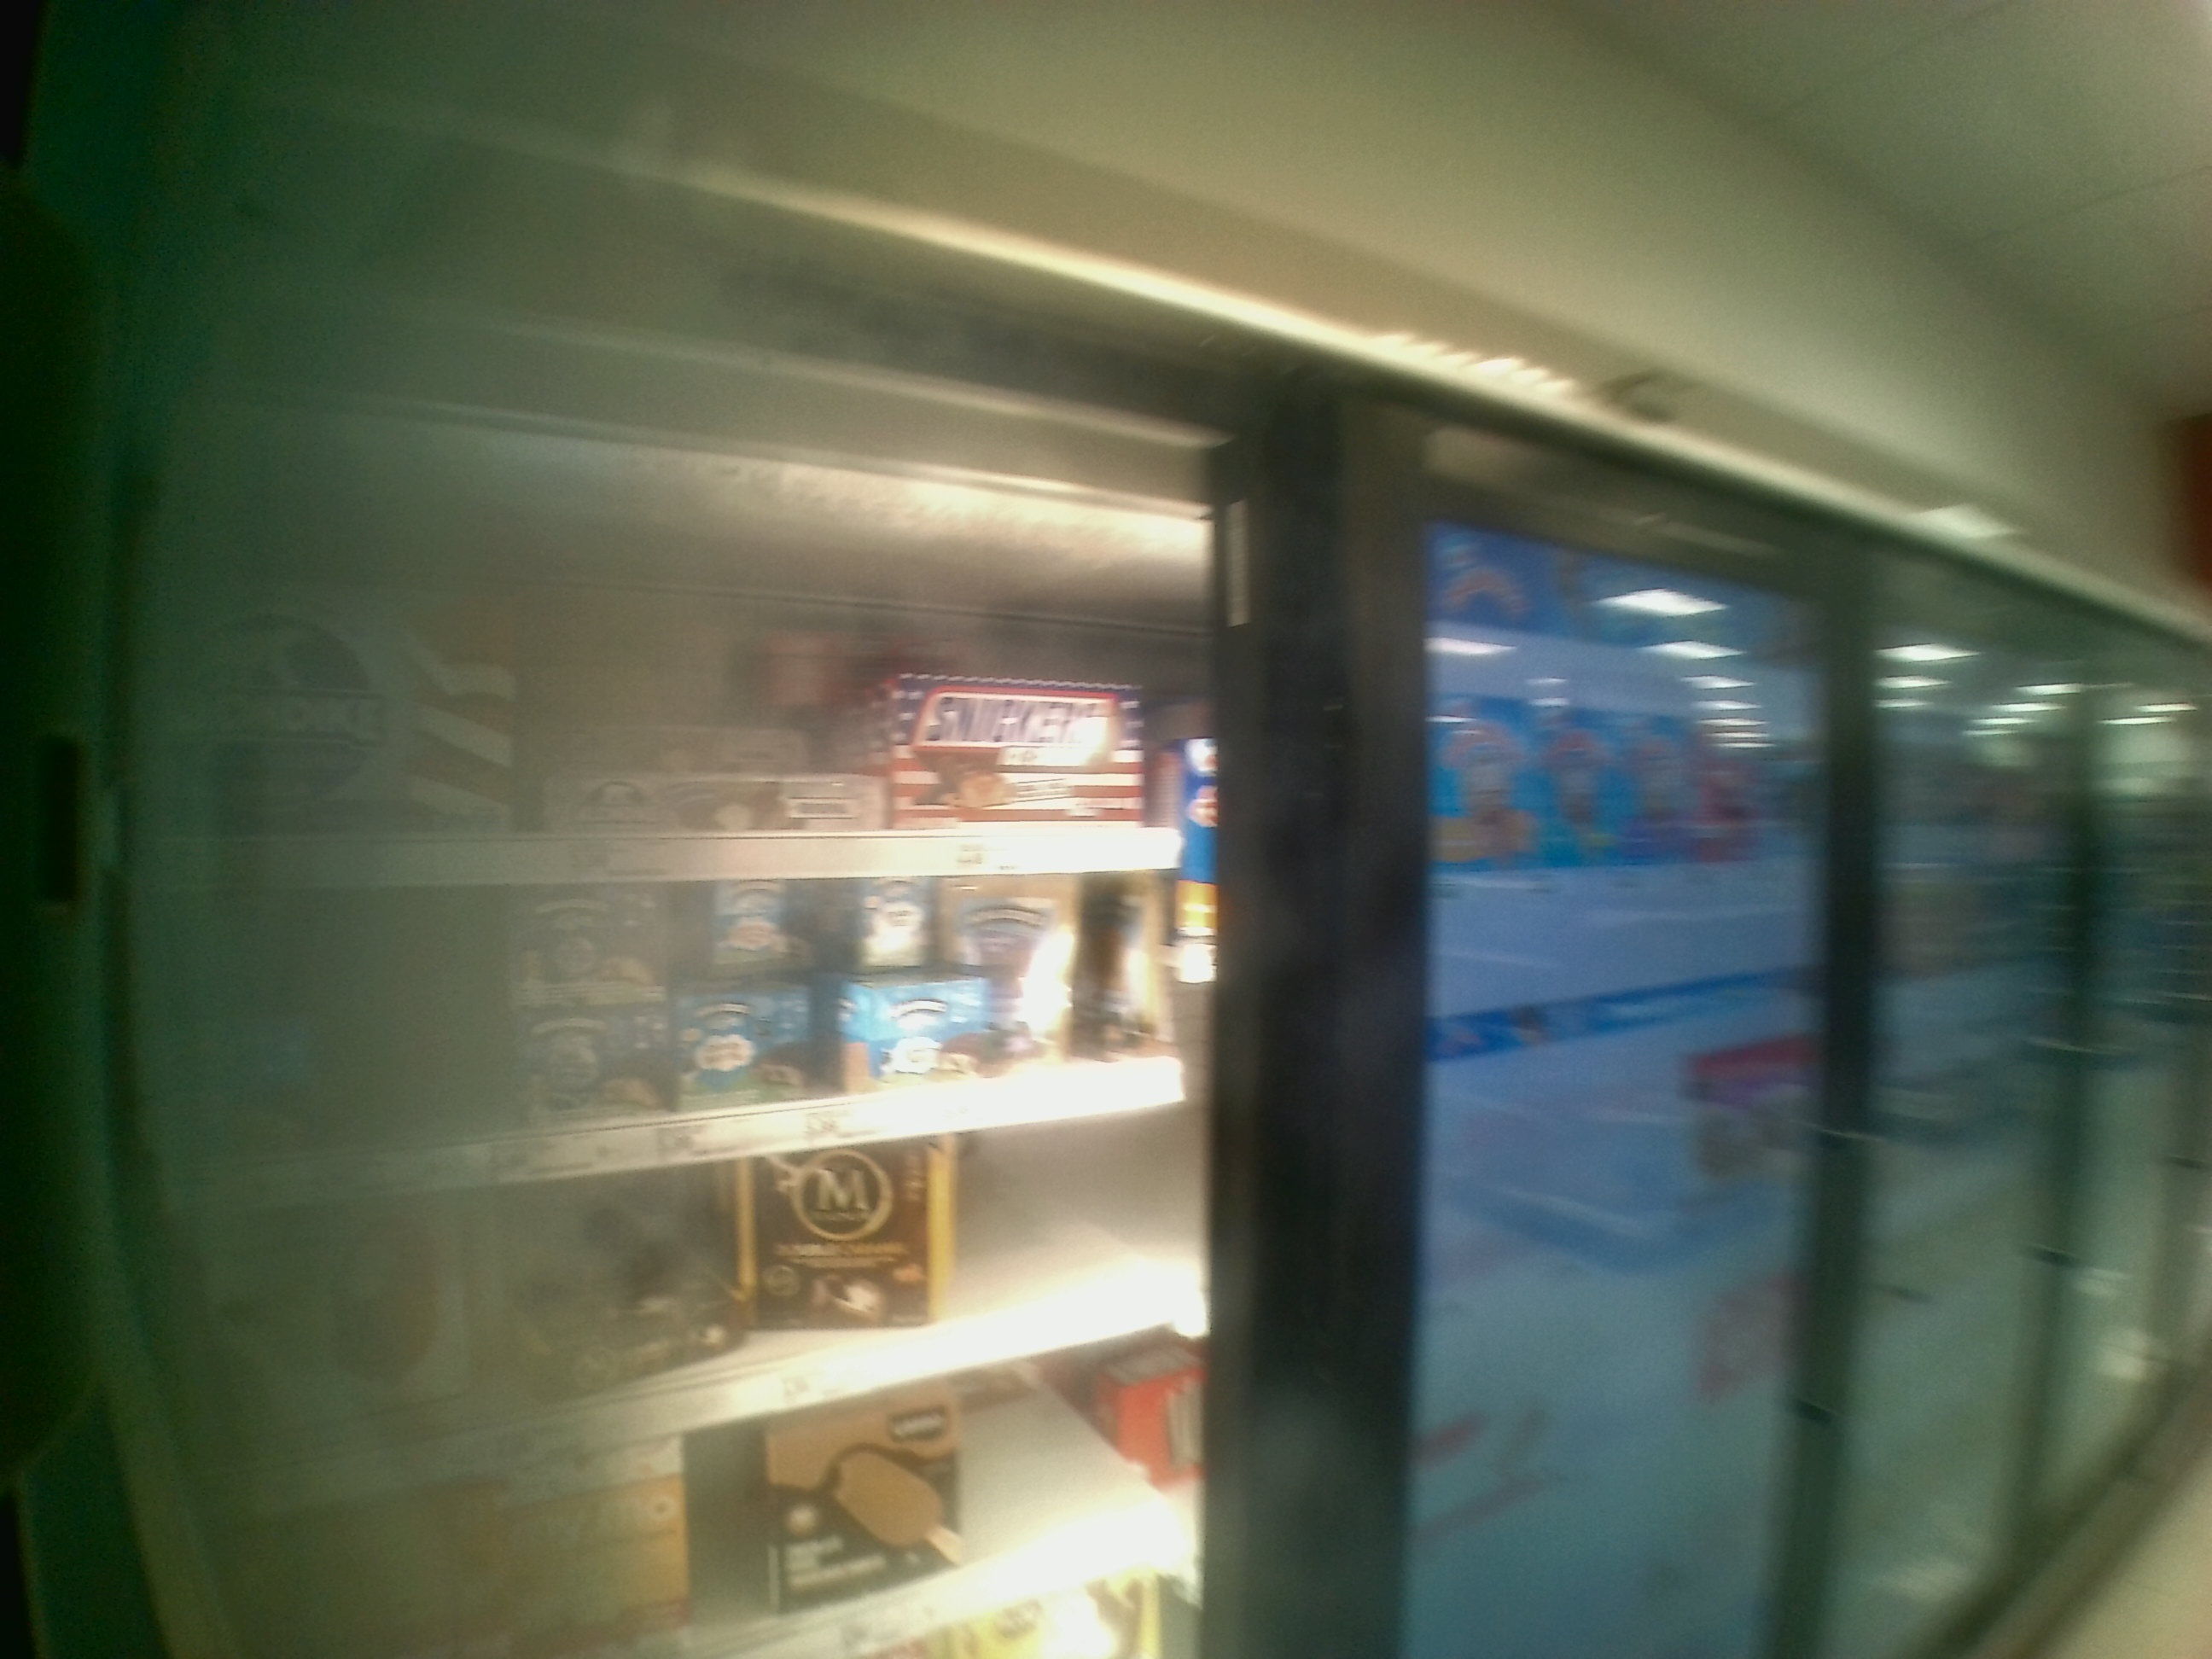shelf: (105, 467, 1190, 887), (87, 887, 1200, 1234)
